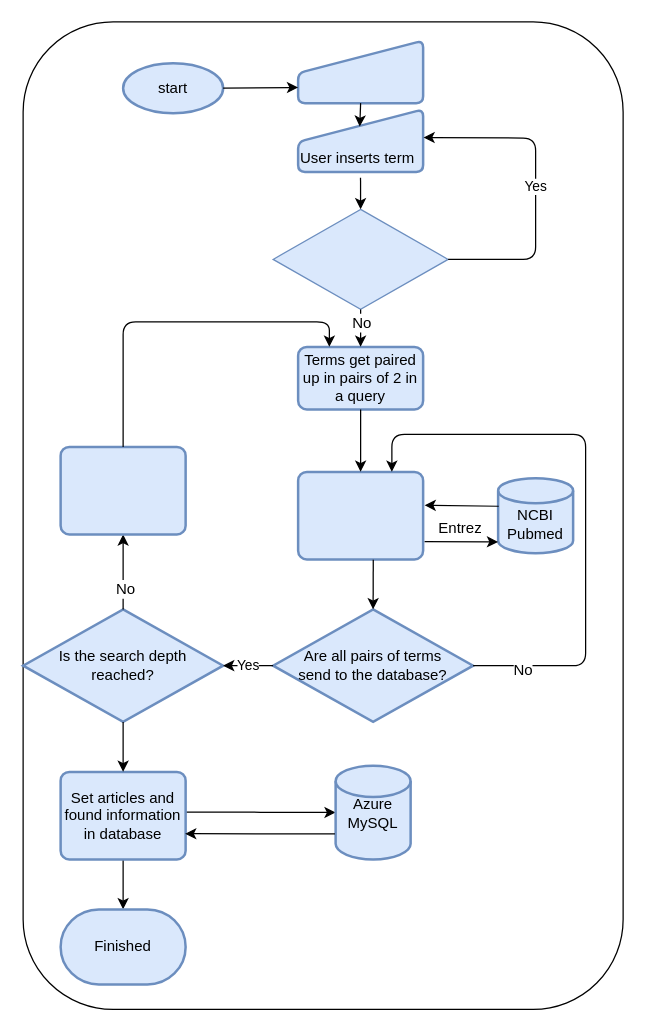
Image size: 645x1031. Some labels were removed from this diagram. The box of each missing label's shape, as (x1, y1, x2, y2) in pixels:
Input more terms: (272, 208, 448, 309)
Retrieve the keyword from found articles: (59, 445, 186, 535)
Terms get send to the PubMed database and retrieves articles: (296, 470, 424, 560)
User input depth of search: (296, 39, 424, 104)
